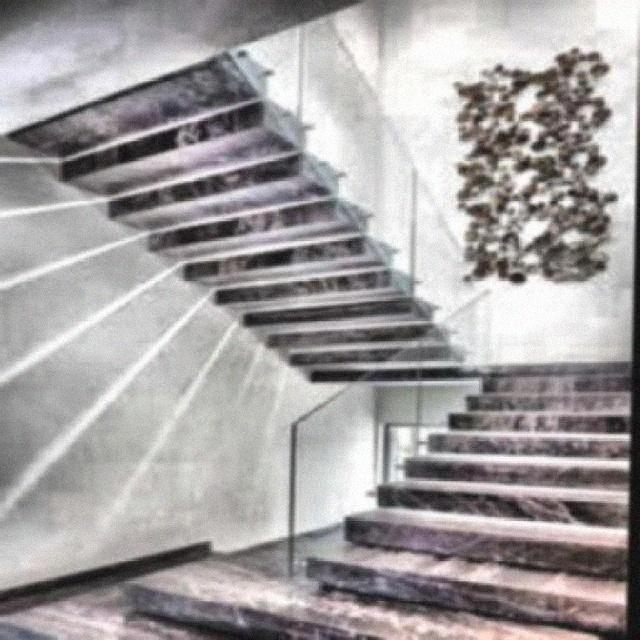stair: (282, 360, 632, 634)
